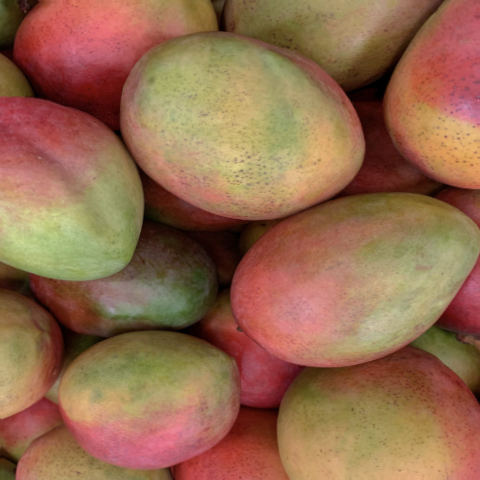mango: (205, 155, 478, 408), (112, 18, 369, 228), (0, 98, 151, 301), (67, 323, 248, 469)
